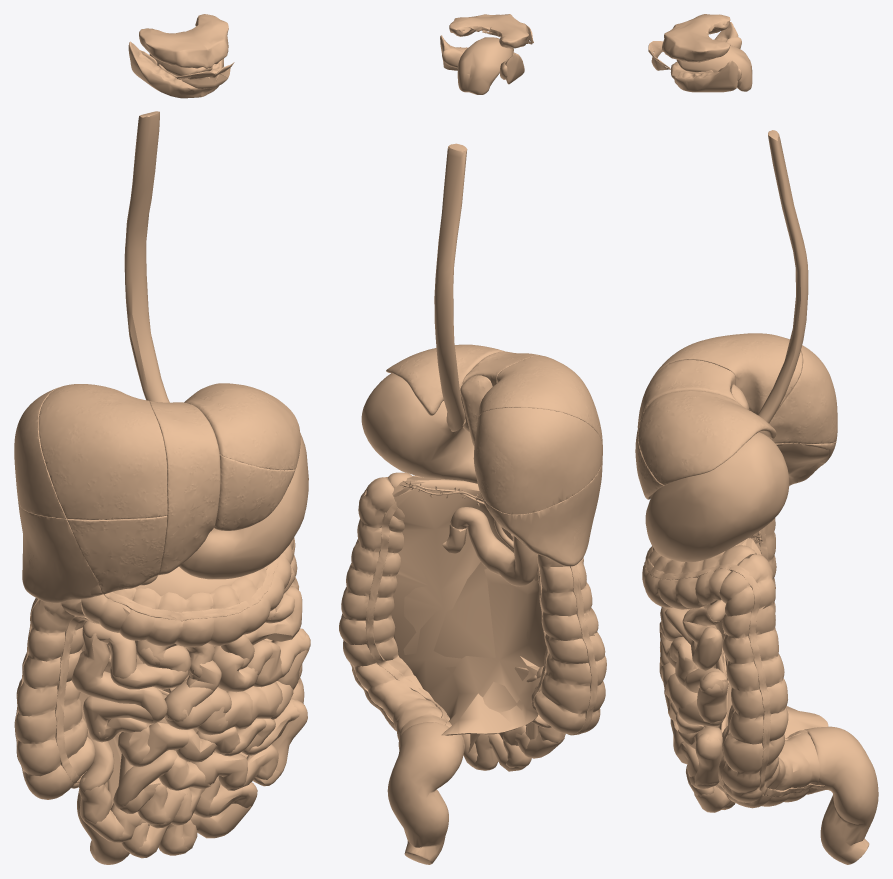
The model's file is male-digestive.glb.
3 views of the same model, side by side, from view 1: azimuth 30°, elevation 25°; view 2: azimuth 150°, elevation 25°; view 3: azimuth 270°, elevation 25° (orthographic). The views are drawn at different scales.
Visible parts, largest first — view 1: FJ2824, FJ2566, FJ2572, FJ2820, FJ2818, FJ2563, FJ2564, FJ2821, FJ2409, FJ2819, FJ1858, FJ1252 (+41 smaller); view 2: FJ3398, FJ2567, FJ1858, FJ2566, FJ2564, FJ2571, FJ2563, FJ2824, FJ2409, FJ2573, FJ2818, FJ2569 (+9 smaller); view 3: FJ2567, FJ2564, FJ2818, FJ2571, FJ2824, FJ2563, FJ2572, FJ2823, FJ2570, FJ2820, FJ1252, FJ1253 (+16 smaller).
Part boxes in pixels (x1,y1,x2,y2): FJ2824: (38,384,167,519); FJ2566: (15,599,95,799); FJ2572: (81,539,293,647); FJ2820: (149,401,220,575); FJ2818: (184,383,300,470); FJ2563: (124,111,169,402); FJ2564: (179,433,308,579); FJ2821: (67,515,167,594); FJ2409: (18,500,99,603); FJ2819: (214,454,295,530); FJ1858: (14,386,66,518); FJ1252: (139,14,228,68); FJ3398: (391,476,546,735); FJ2567: (339,477,464,752); FJ1858: (479,407,602,514); FJ2566: (534,554,606,734); FJ2564: (361,373,477,483); FJ2571: (387,722,463,864); FJ2563: (434,143,467,431); FJ2824: (478,355,602,445); FJ2409: (483,460,602,566); FJ2573: (450,507,537,586); FJ2818: (386,344,504,415); FJ2569: (365,501,549,724); FJ2567: (717,554,819,808); FJ2564: (645,432,789,562); FJ2818: (638,390,776,485); FJ2571: (804,726,878,864); FJ2824: (650,333,802,414); FJ2563: (758,130,808,423); FJ2572: (642,545,756,609); FJ2823: (769,374,837,443); FJ2570: (644,546,824,797); FJ2820: (637,359,737,427); FJ1252: (662,14,730,62); FJ1253: (670,22,738,92).
Bounding box in the file's own units: 0.2443 × 0.7225 × 0.1911.
